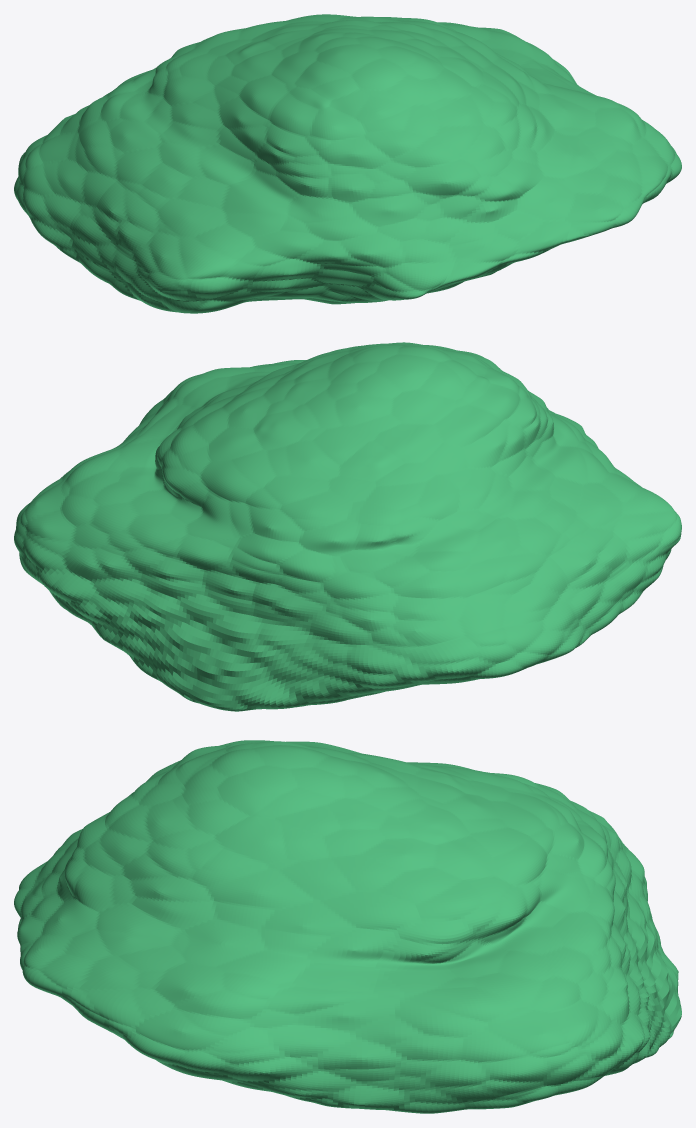
The model's file is slime.fbx.
3 renders of one model, top to bottom at view 1: azimuth 30°, elevation 25°; view 2: azimuth 150°, elevation 25°; view 3: azimuth 270°, elevation 25°, orthographic. The views are drawn at different scales.
Visible parts, largest first — view 1: Cube.001; view 2: Cube.001; view 3: Cube.001.
Boxes of the visible parts, bbox=[...] form: Cube.001: bbox=[14, 14, 681, 313]; Cube.001: bbox=[14, 342, 681, 711]; Cube.001: bbox=[14, 740, 681, 1113].
Bounding box in the file's own units: 424 × 410 × 174.
